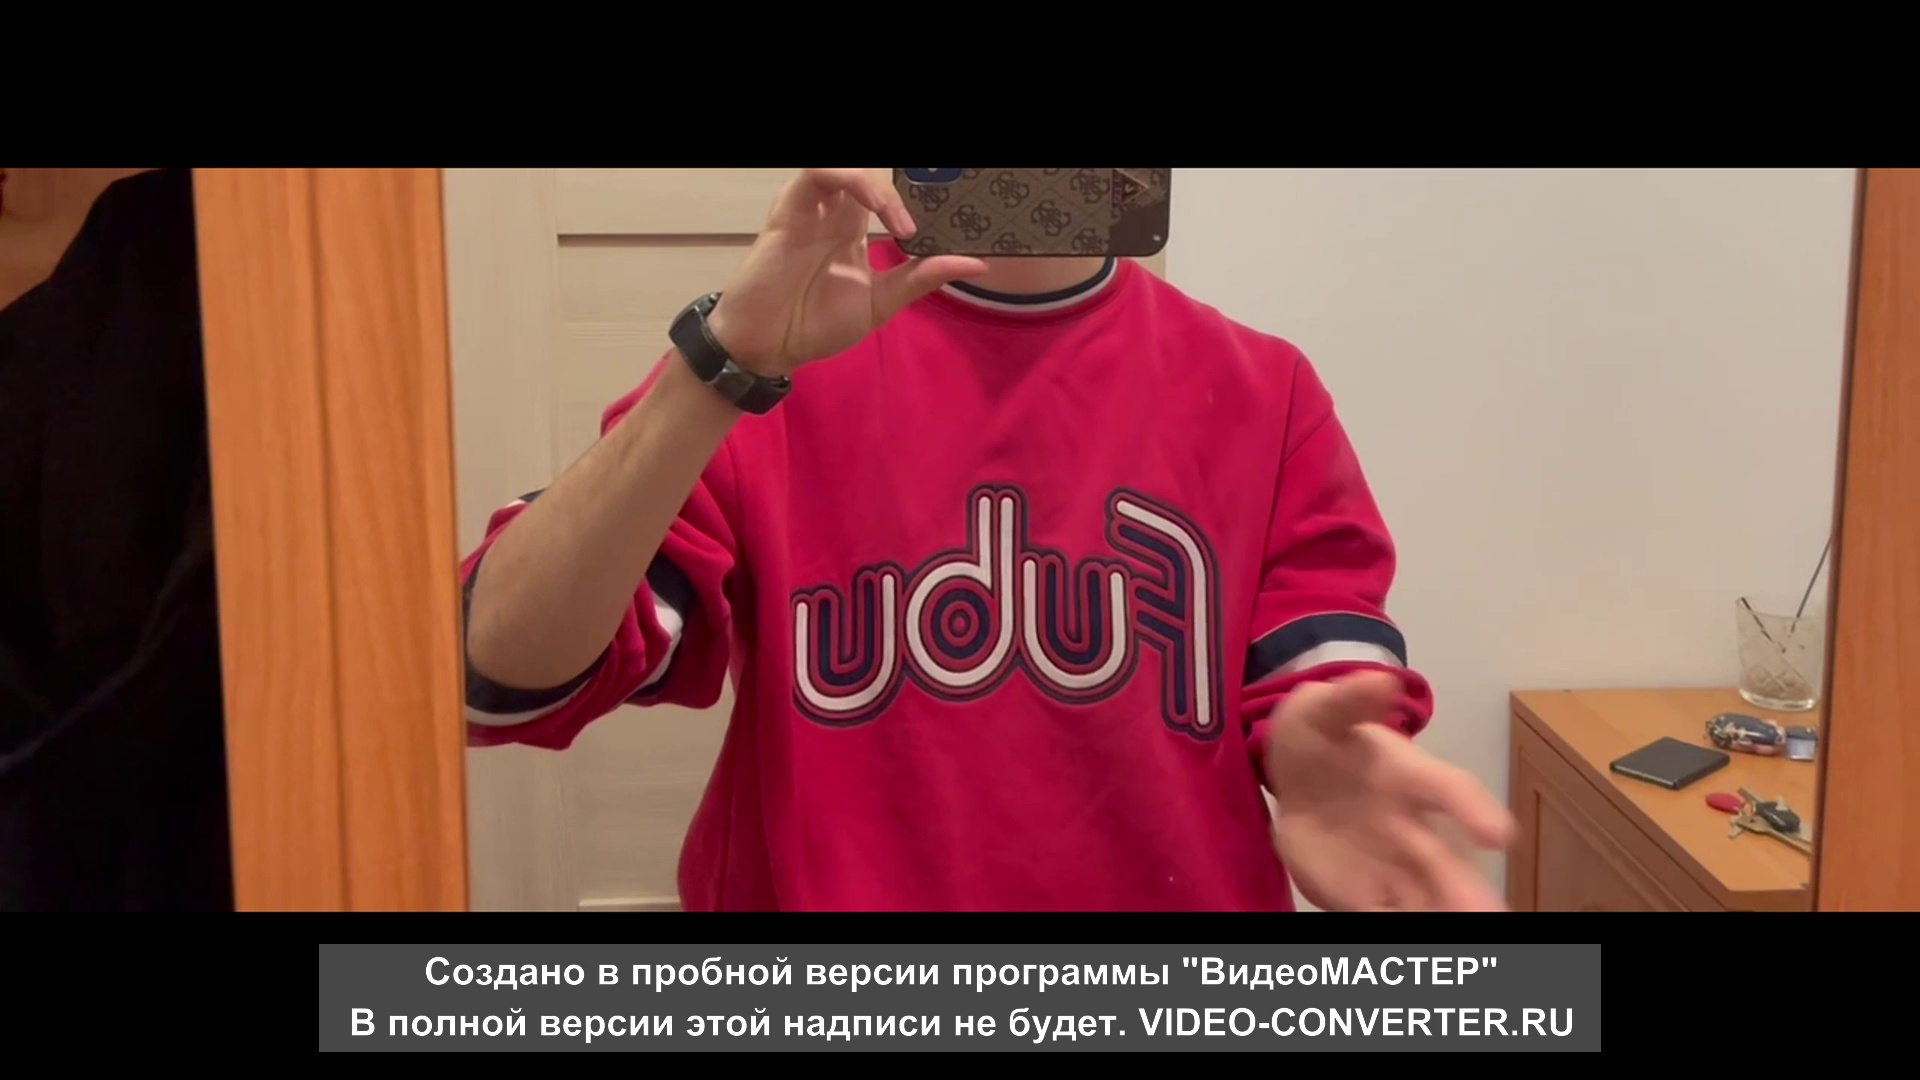Ладонь: (1261, 673, 1520, 910)
